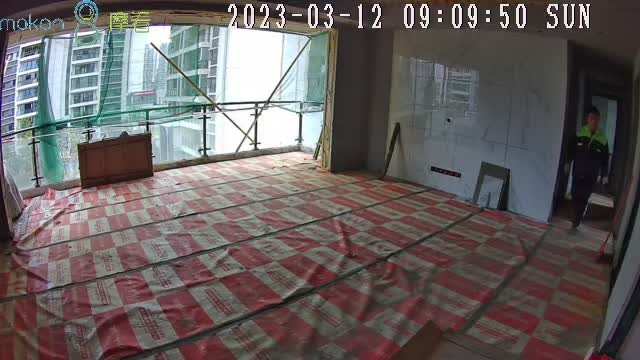people: (564, 103, 613, 238)
window: (7, 29, 311, 191)
